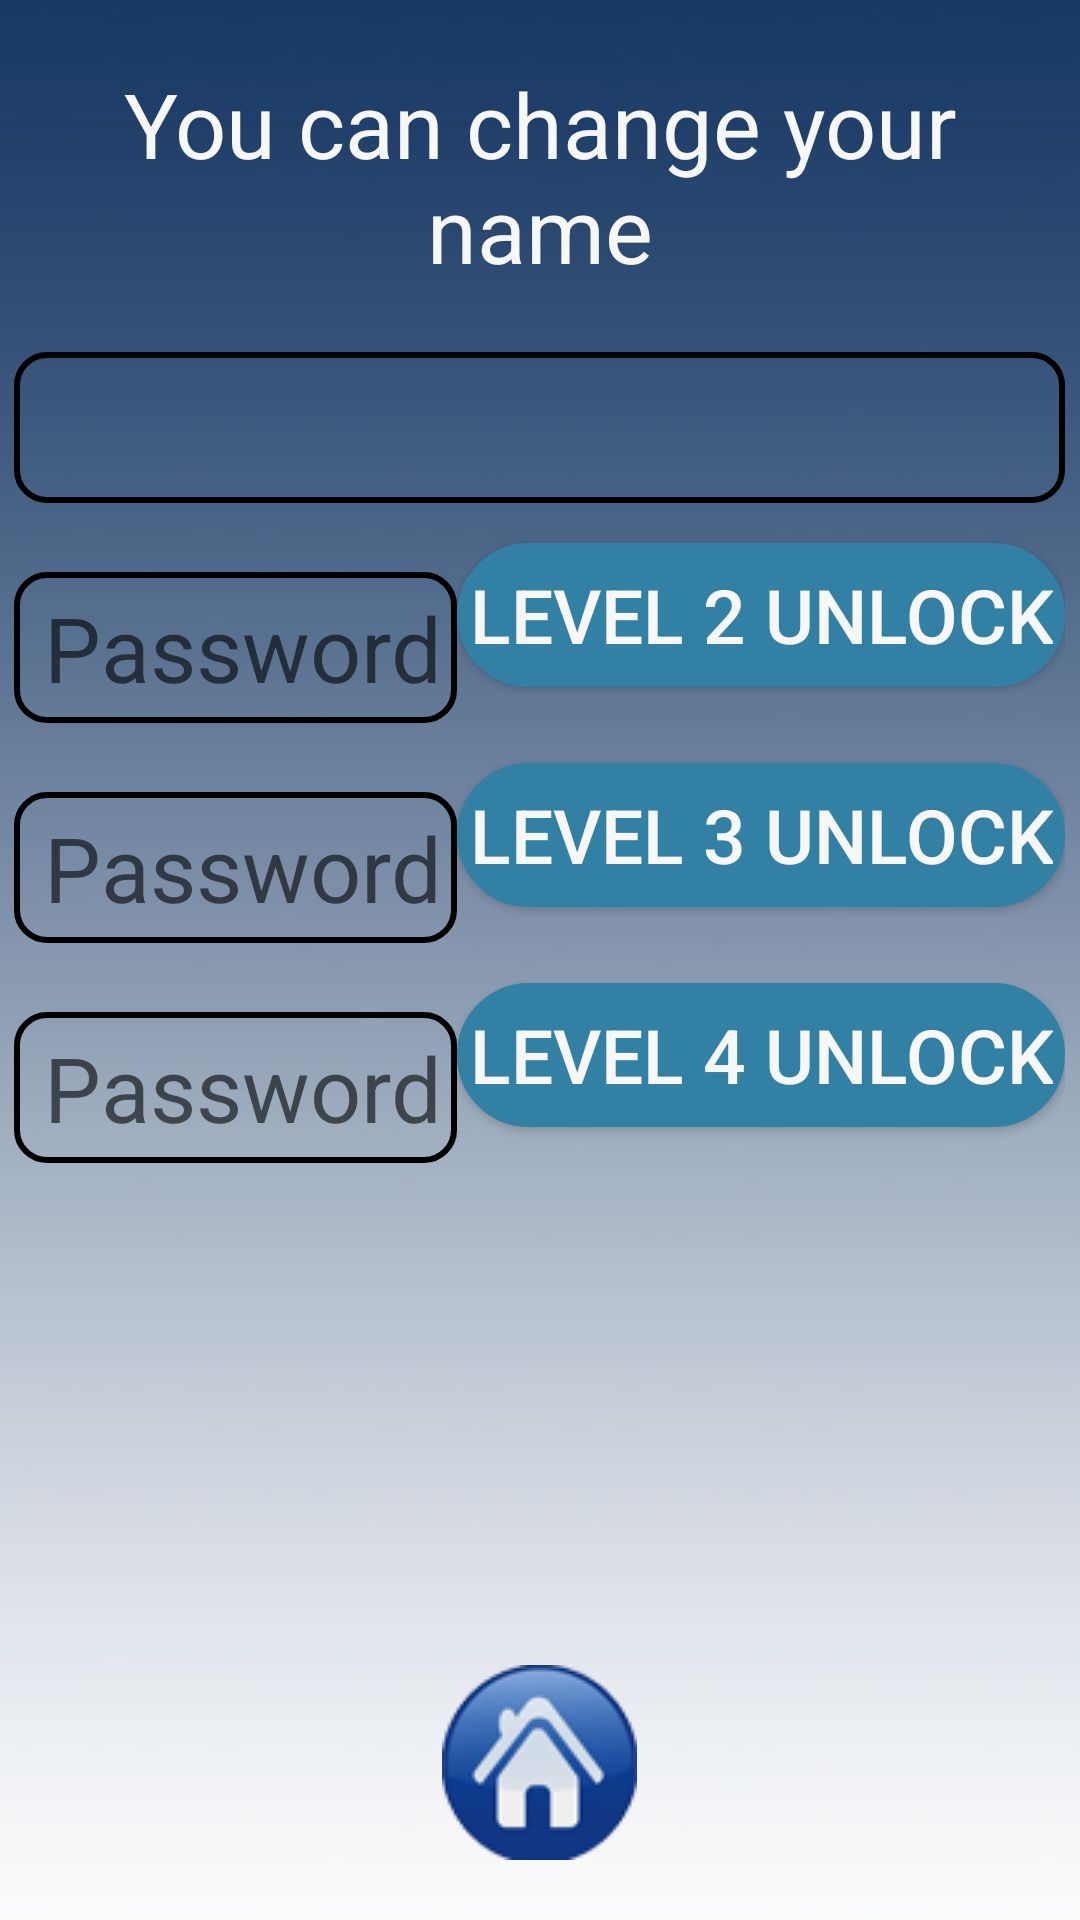

Named icons in this screenshot (1080x1920) and their bounding boxes, (x1, y1, x2, y2):
home: (442, 1665, 637, 1860)
